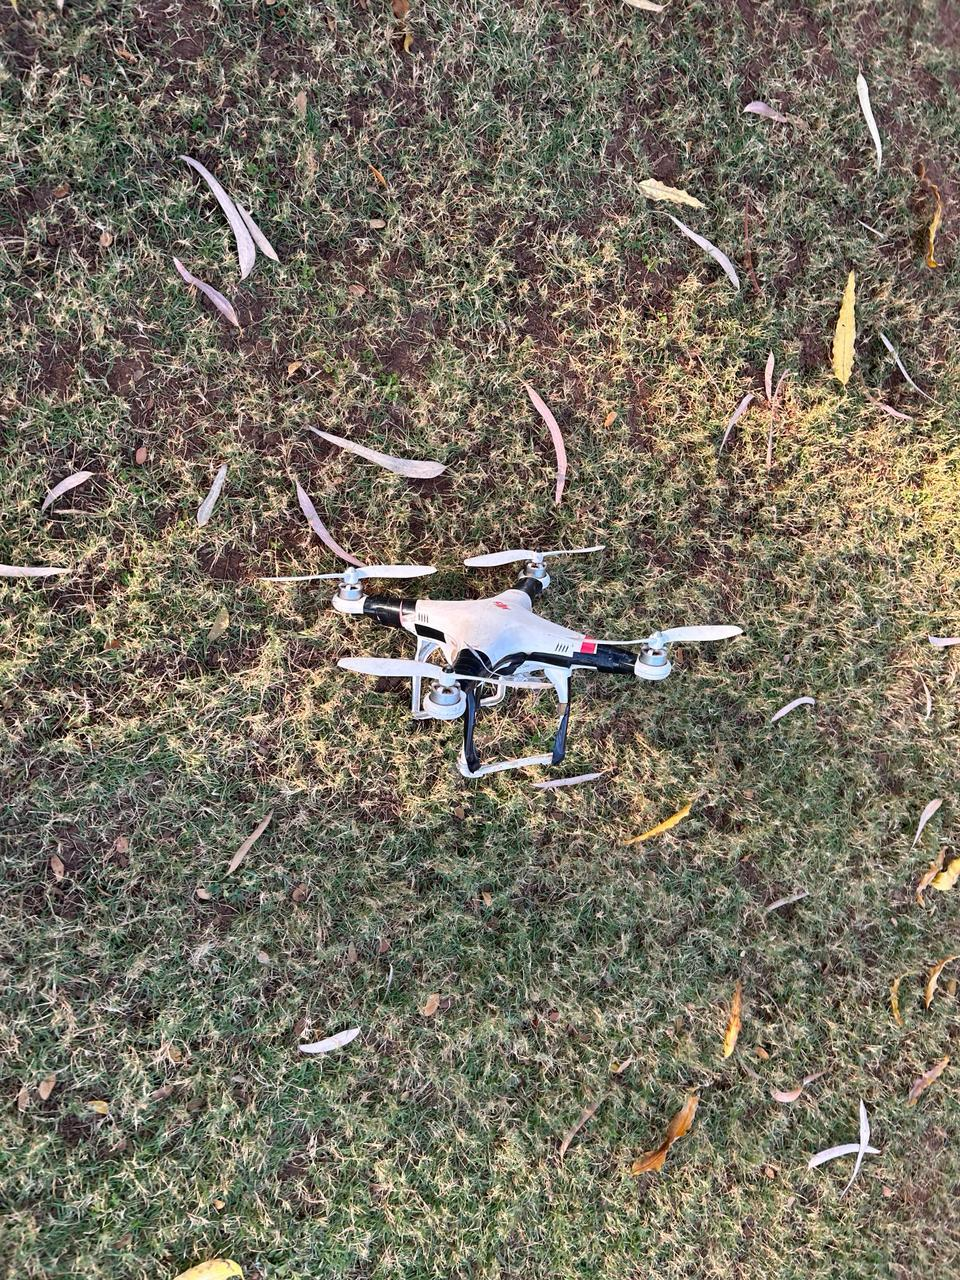drone: (211, 491, 820, 845)
